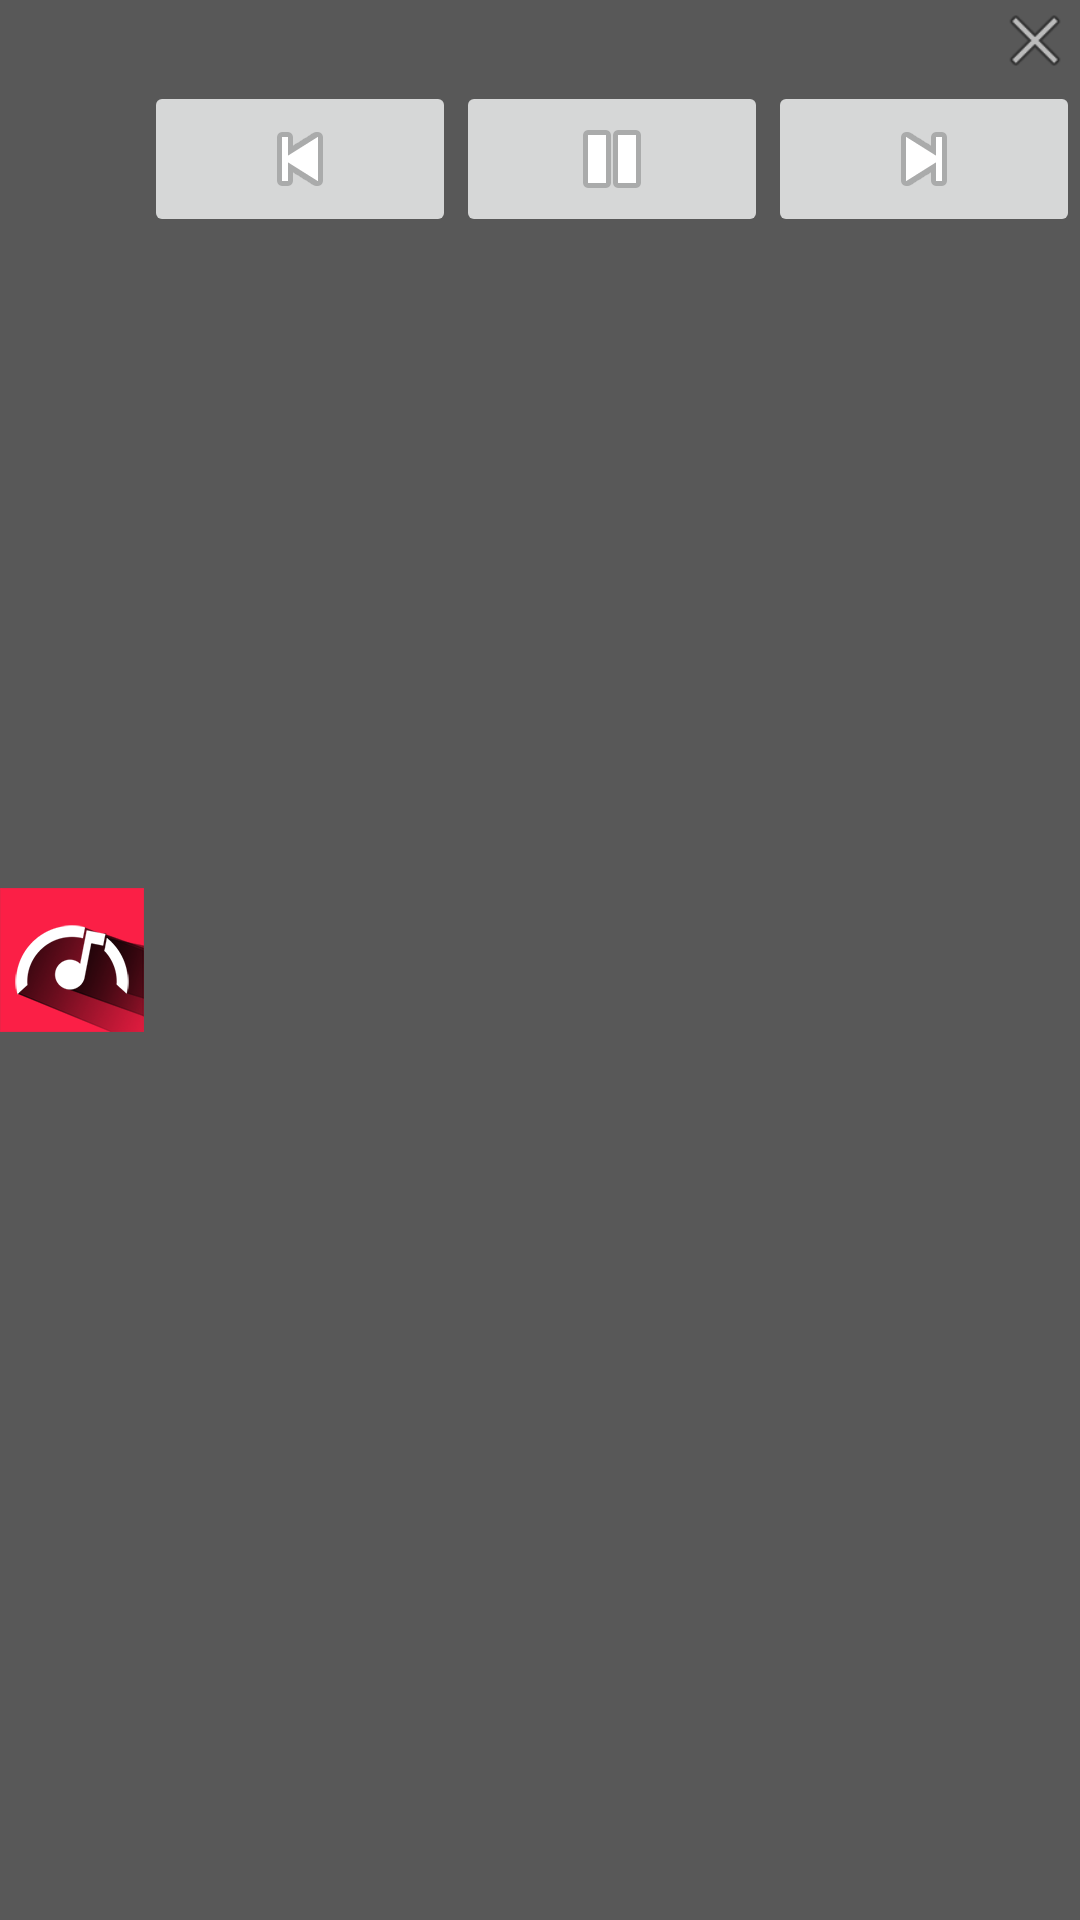

Icon click points for this 1080*1920 phone screenshot, format (x=x, y=y):
close clear cancel: (x=1035, y=40)
next: (x=924, y=159)
pause: (x=612, y=159)
previous: (x=300, y=159)
